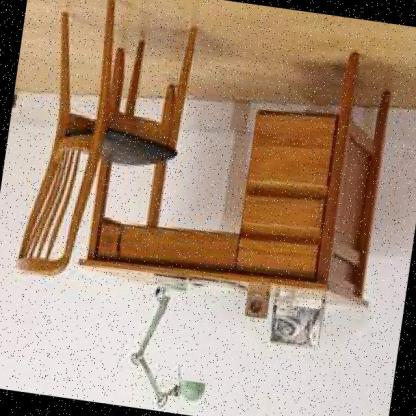Table: (69, 10, 413, 325)
